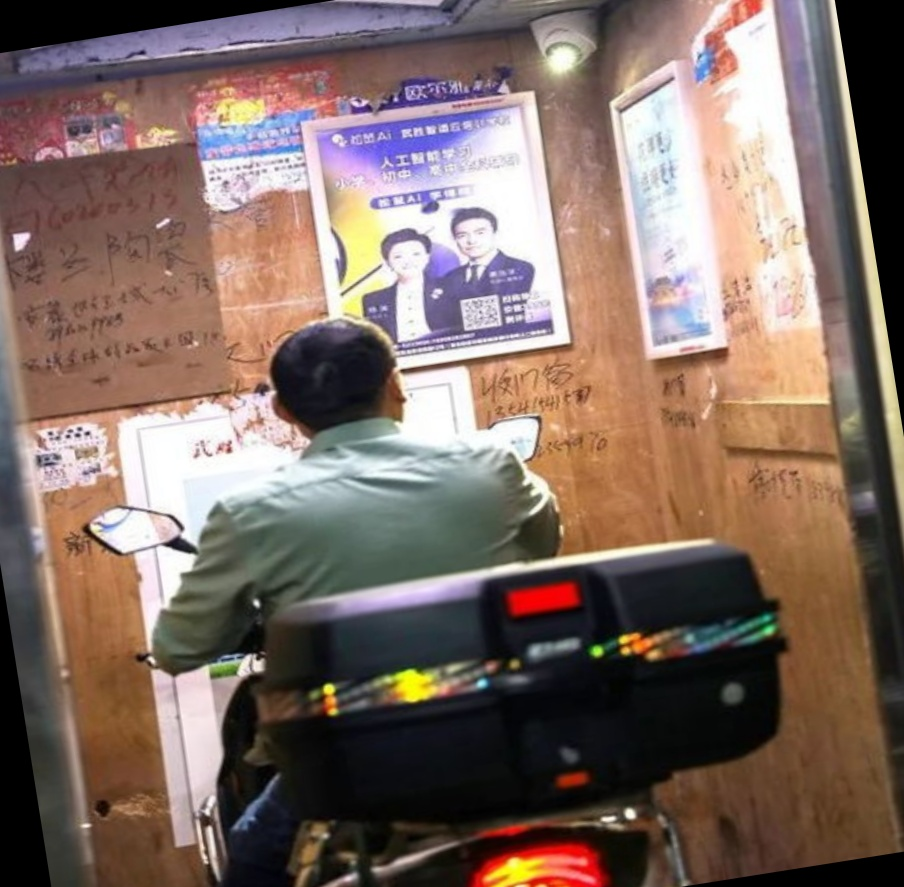ebike: (87, 417, 793, 885)
person: (159, 312, 569, 879)
